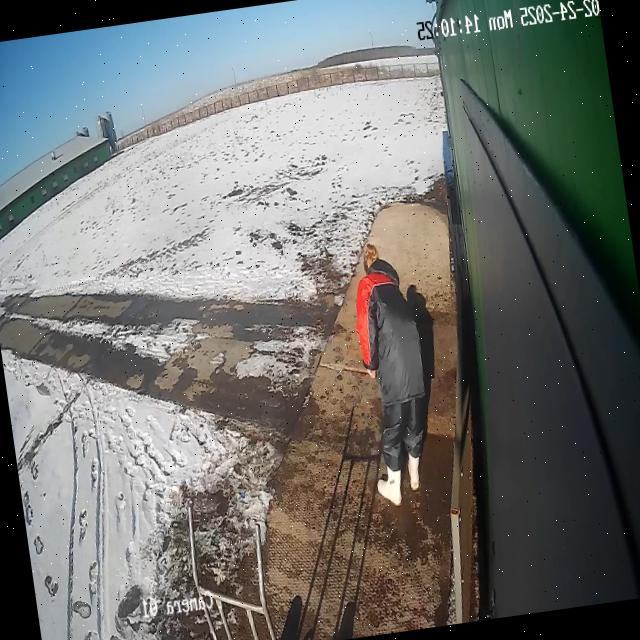Red uniform: (342, 236, 446, 512)
